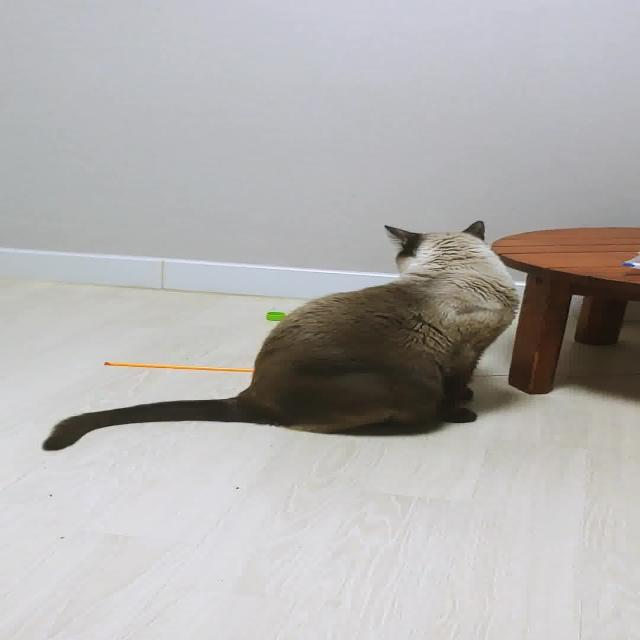cat: (39, 217, 525, 455)
